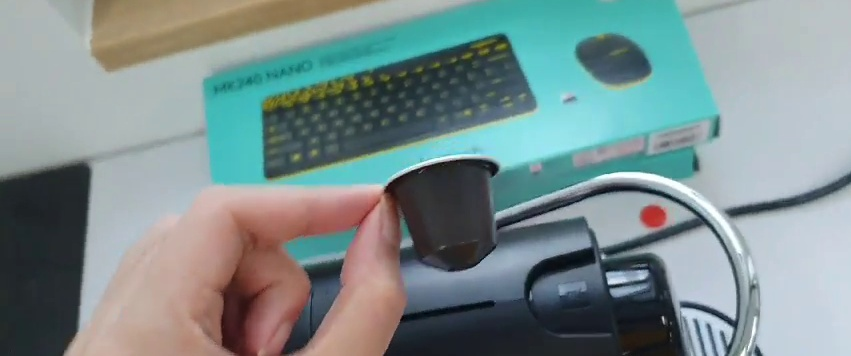capsule_4: (384, 152, 504, 272)
